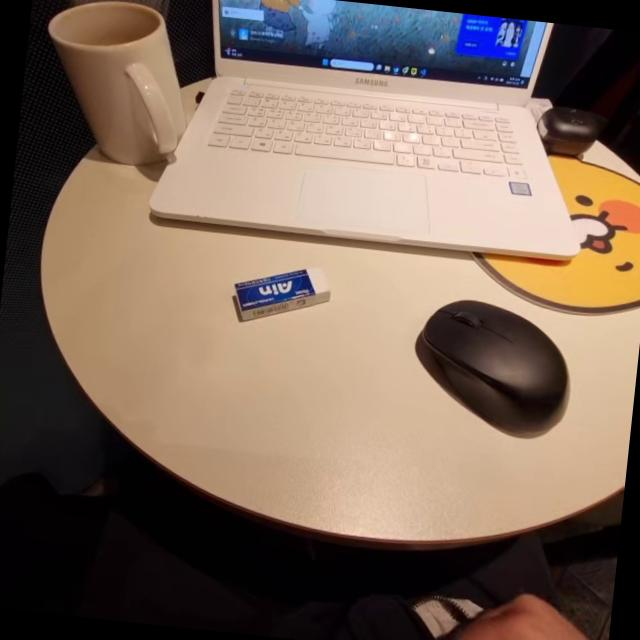eraser: (218, 255, 340, 330)
mouse: (375, 289, 585, 462)
